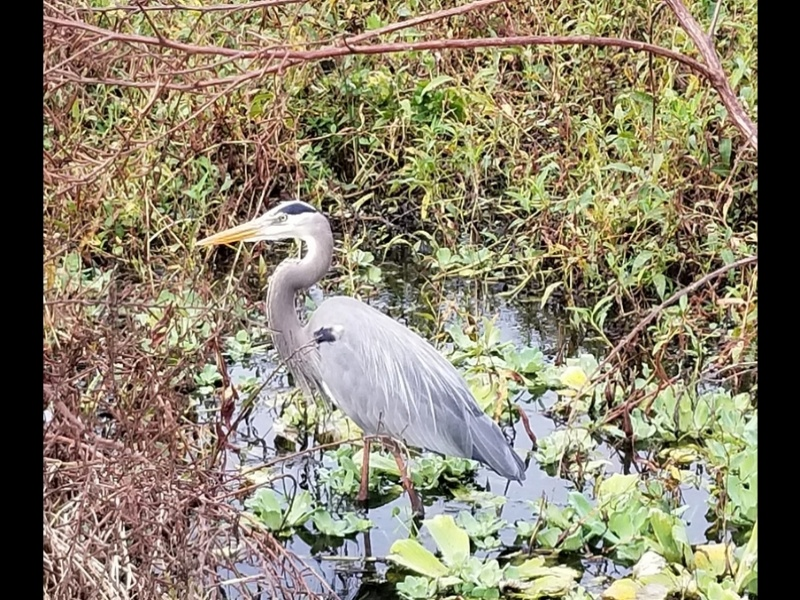heron: (188, 198, 531, 523)
